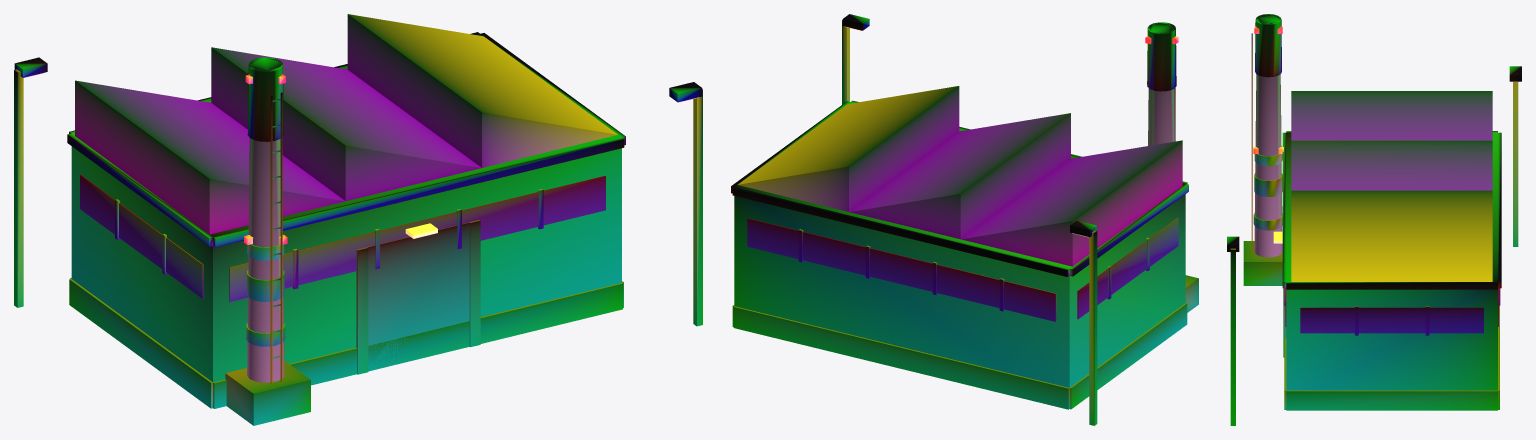
The model's file is Ind_Shed_V7.fbx.
3 views of the same model, side by side, from view 1: azimuth 30°, elevation 25°; view 2: azimuth 150°, elevation 25°; view 3: azimuth 270°, elevation 25° (orthographic). The views are drawn at different scales.
Visible parts, largest first — view 1: Ind_Shed_V7_LOD0; view 2: Ind_Shed_V7_LOD0; view 3: Ind_Shed_V7_LOD0.
Part boxes in pixels (left/top/right/bottom): Ind_Shed_V7_LOD0: left=14, top=14, right=702, bottom=425; Ind_Shed_V7_LOD0: left=731, top=14, right=1198, bottom=425; Ind_Shed_V7_LOD0: left=1227, top=14, right=1521, bottom=425.
Size of what is drawn, in the model's own units: 24.3 by 16 by 16.7.
